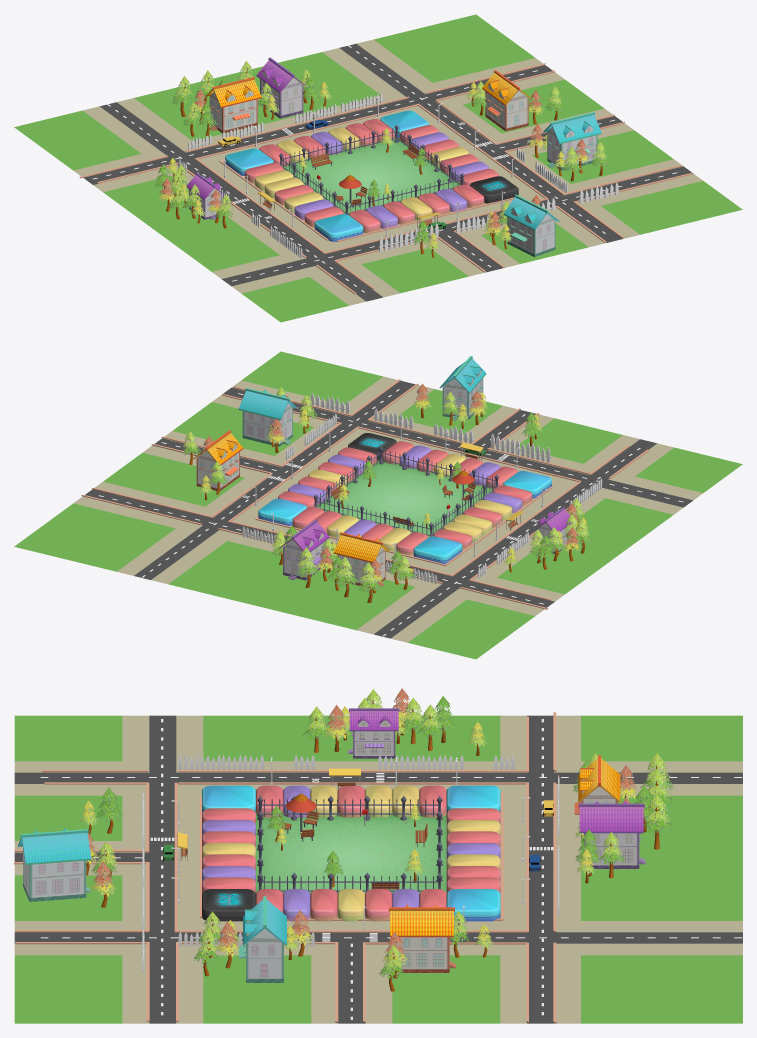
The model's file is back02.FBX.
3 views of the same model, one above another, from view 1: azimuth 30°, elevation 25°; view 2: azimuth 150°, elevation 25°; view 3: azimuth 270°, elevation 25° (orthographic). The views are drawn at different scales.
Parts seen in each view (by area): view 1: Plane1213, Plane001, Box878, Cylinder007, Box952, Box907, Box910, Box921, Box911, Plane1338, Box549, Box909 (+4 smaller); view 2: Plane1213, Plane001, Box878, Cylinder007, Box910, Box921, Box907, Box911, Box952, Plane1338, Box822, Box830 (+4 smaller); view 3: Plane1213, Plane001, Box952, Box921, Box878, Box911, Box910, Cylinder007, Box909, Plane1338, Box907, Box830 (+42 smaller).
Part boxes in pixels (<box>): Plane1213: <box>14,14,742,322</box>; Plane001: <box>284,137,459,214</box>; Box878: <box>178,93,619,258</box>; Cylinder007: <box>279,125,464,214</box>; Box952: <box>503,194,559,257</box>; Box907: <box>205,77,261,133</box>; Box910: <box>543,112,601,170</box>; Box921: <box>482,70,531,131</box>; Box911: <box>256,57,306,118</box>; Plane1338: <box>92,45,677,292</box>; Box549: <box>314,214,363,241</box>; Box909: <box>186,173,224,219</box>; Plane1213: <box>14,351,742,659</box>; Plane001: <box>317,460,493,537</box>; Box878: <box>242,393,602,583</box>; Cylinder007: <box>313,446,498,536</box>; Box910: <box>238,388,296,446</box>; Box921: <box>193,430,243,491</box>; Box907: <box>333,532,389,588</box>; Box911: <box>279,519,329,580</box>; Box952: <box>439,356,486,420</box>; Plane1338: <box>98,389,683,636</box>; Box822: <box>413,536,462,563</box>; Box830: <box>258,498,306,525</box>; Plane1213: <box>14,715,742,1023</box>; Plane001: <box>256,814,446,893</box>; Box952: <box>18,828,91,901</box>; Box921: <box>389,904,455,972</box>; Box878: <box>142,755,559,971</box>; Box911: <box>578,801,645,868</box>; Box910: <box>239,896,286,982</box>; Cylinder007: <box>257,796,442,893</box>; Box909: <box>348,708,399,758</box>; Plane1338: <box>40,719,742,1019</box>; Box907: <box>574,755,620,838</box>; Box830: <box>446,889,500,921</box>.
Bounding box in the file's own units: 46.94 × 4.55 × 46.59.
